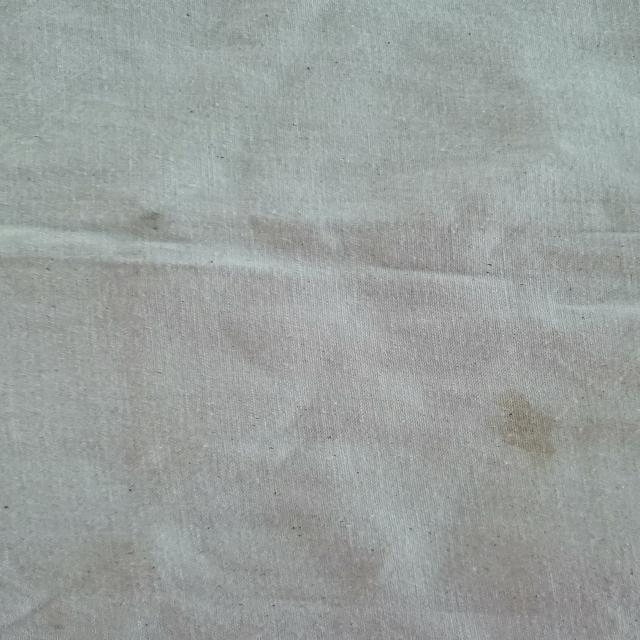taaaches: (474, 376, 584, 464), (94, 197, 174, 265)
